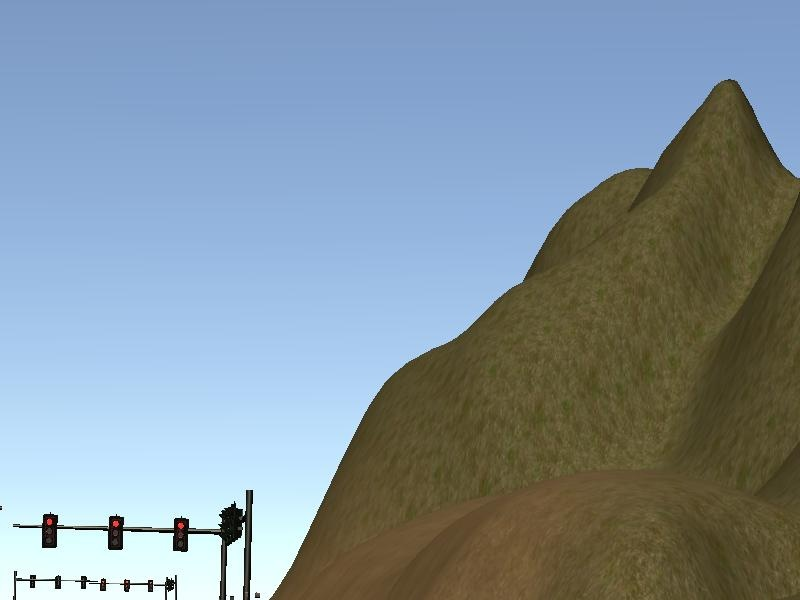red: (172, 516, 189, 553), (107, 515, 124, 551), (42, 510, 58, 546)
